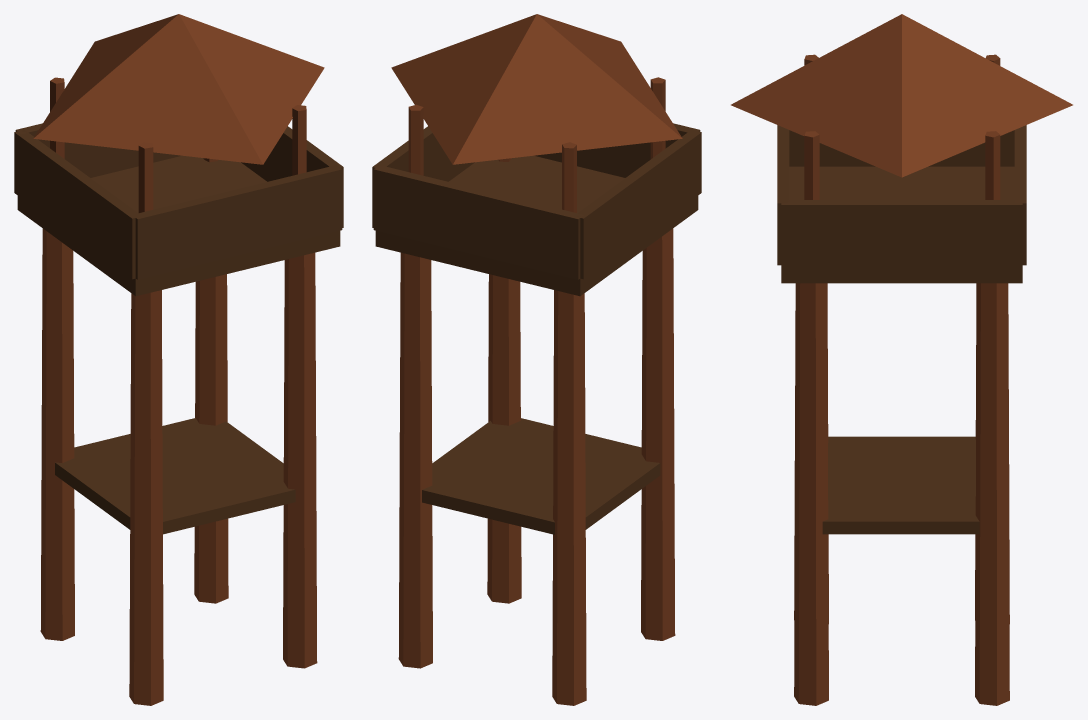
Rendered from orc_tower.glb.
3 views of the same model, side by side, from view 1: azimuth 30°, elevation 25°; view 2: azimuth 150°, elevation 25°; view 3: azimuth 270°, elevation 25° (orthographic). The views are drawn at different scales.
Visible parts, largest first — view 1: orc_tower; view 2: orc_tower; view 3: orc_tower.
Boxes of the visible parts, x1=… form: orc_tower: x1=14, y1=14, x2=343, y2=705; orc_tower: x1=372, y1=14, x2=701, y2=705; orc_tower: x1=731, y1=14, x2=1072, y2=705.
Size of the model in its own units: 1.71 by 3.55 by 1.71.
